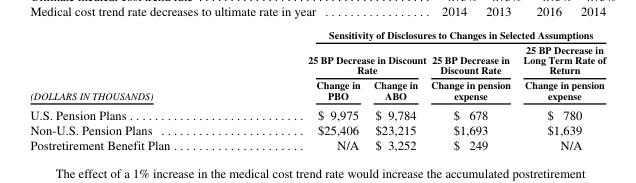table: (29, 28, 605, 151)
table column: (29, 28, 238, 151), (238, 28, 366, 151), (427, 28, 516, 151), (516, 28, 605, 151), (366, 28, 427, 151)
table column header: (29, 28, 605, 104)
table row: (29, 41, 605, 77), (29, 77, 605, 104), (29, 104, 605, 122), (29, 122, 605, 137), (29, 137, 605, 151), (29, 28, 605, 41)
table spanning cell: (29, 28, 238, 104), (238, 41, 427, 77), (427, 41, 516, 104), (516, 41, 605, 104), (238, 28, 605, 41)
